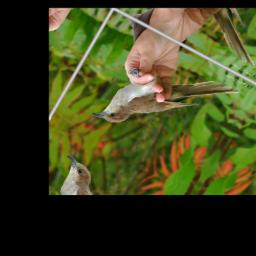Cuckoo: (90, 35, 241, 170)
